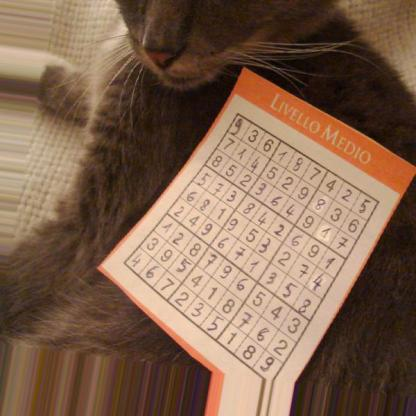sudoku: (121, 109, 383, 380)
